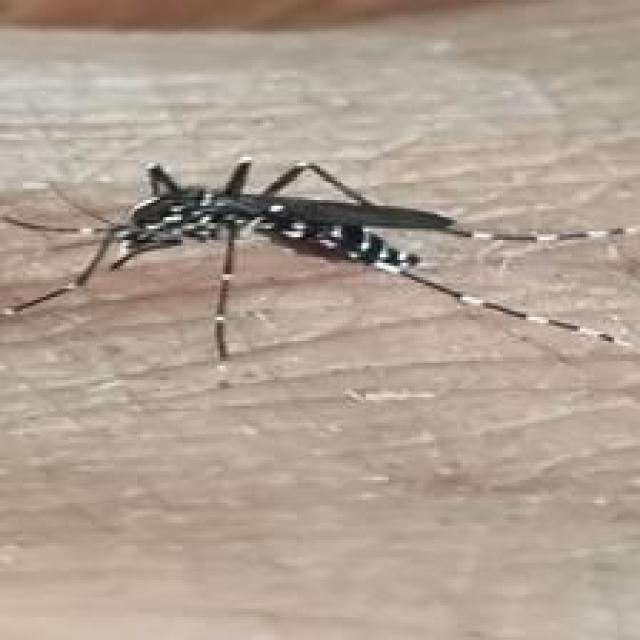Aedes albopictus: (0, 153, 640, 367)
